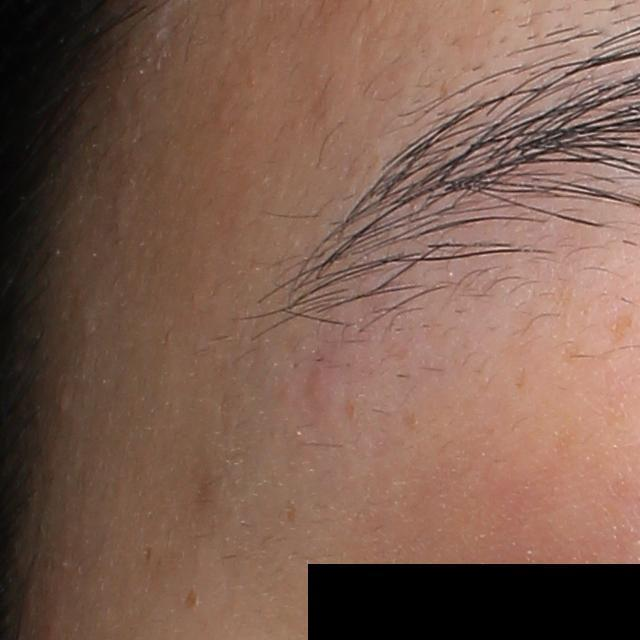melasma: (612, 313, 636, 342), (179, 587, 200, 611)
